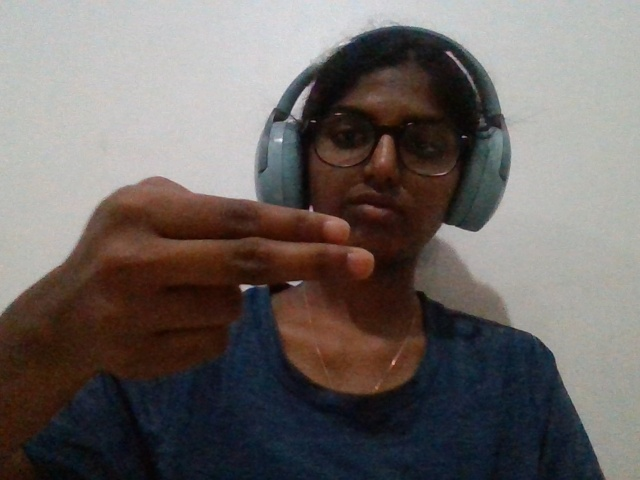H: (4, 169, 385, 400)
